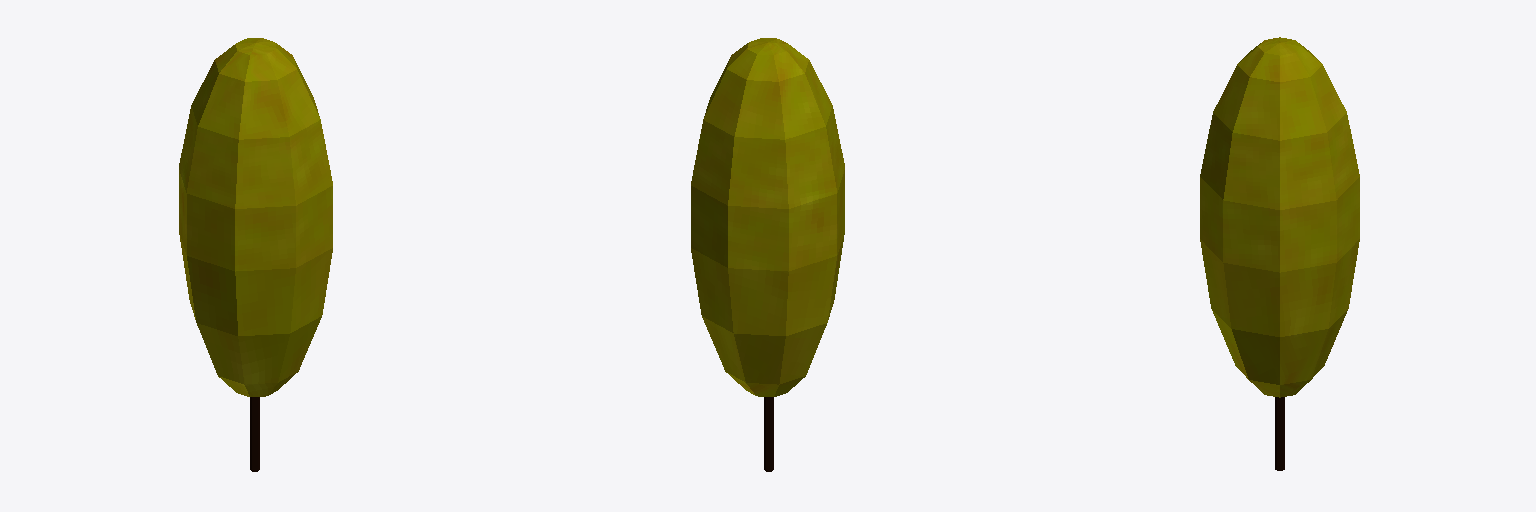
The picture shows the model from 3 angles: view 1: azimuth 30°, elevation 25°; view 2: azimuth 150°, elevation 25°; view 3: azimuth 270°, elevation 25°; orthographic projection.
Parts seen in each view (by area): view 1: Tree_A_TreeA, trunk; view 2: Tree_A_TreeA, trunk; view 3: Tree_A_TreeA, trunk.
Boxes of the visible parts, <box> form: Tree_A_TreeA: <box>179,38,332,396</box>; trunk: <box>250,397,259,471</box>; Tree_A_TreeA: <box>691,38,844,396</box>; trunk: <box>764,397,773,471</box>; Tree_A_TreeA: <box>1200,37,1359,397</box>; trunk: <box>1275,397,1284,470</box>.
Bounding box in the file's own units: 0.5959 × 1.75 × 0.5959.
2 materials, 1 textured.